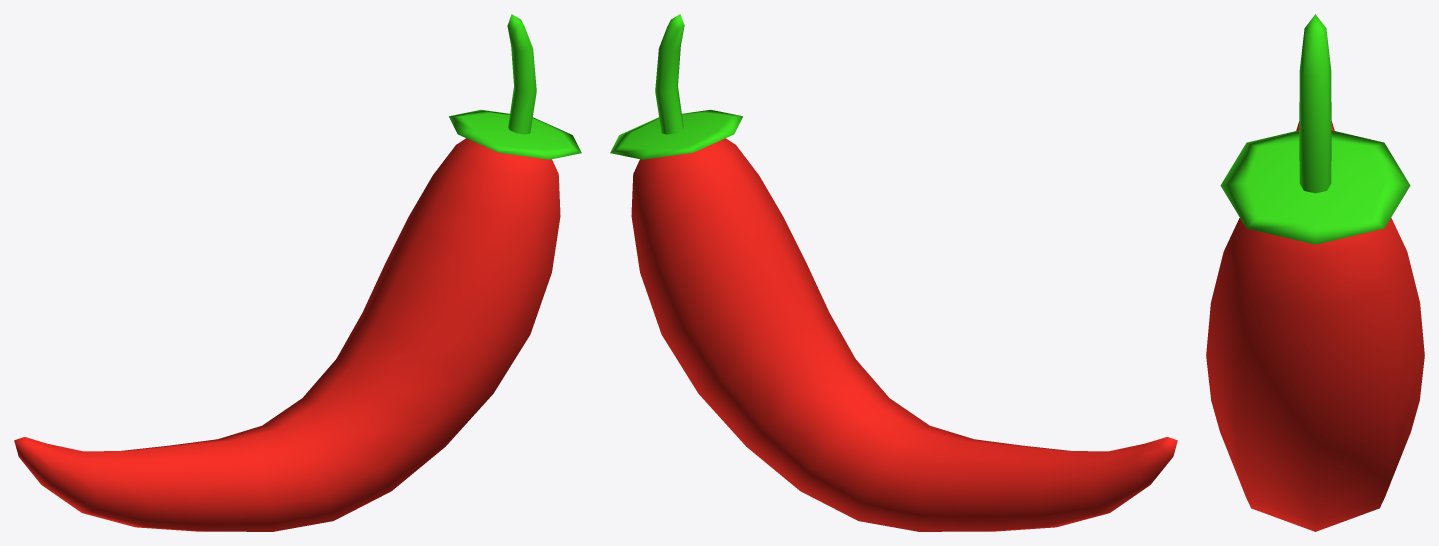
Rendered from spice.fbx.
3 views of the same model, side by side, from view 1: azimuth 30°, elevation 25°; view 2: azimuth 150°, elevation 25°; view 3: azimuth 270°, elevation 25° (orthographic). The views are drawn at different scales.
Visible parts, largest first — view 1: Spice; view 2: Spice; view 3: Spice.
Boxes of the visible parts, x1,y1,x2,y2 form: Spice: [14, 14, 581, 531]; Spice: [610, 14, 1177, 531]; Spice: [1206, 14, 1424, 531].
Size of the model in its own units: 267 by 208 by 65.01.
